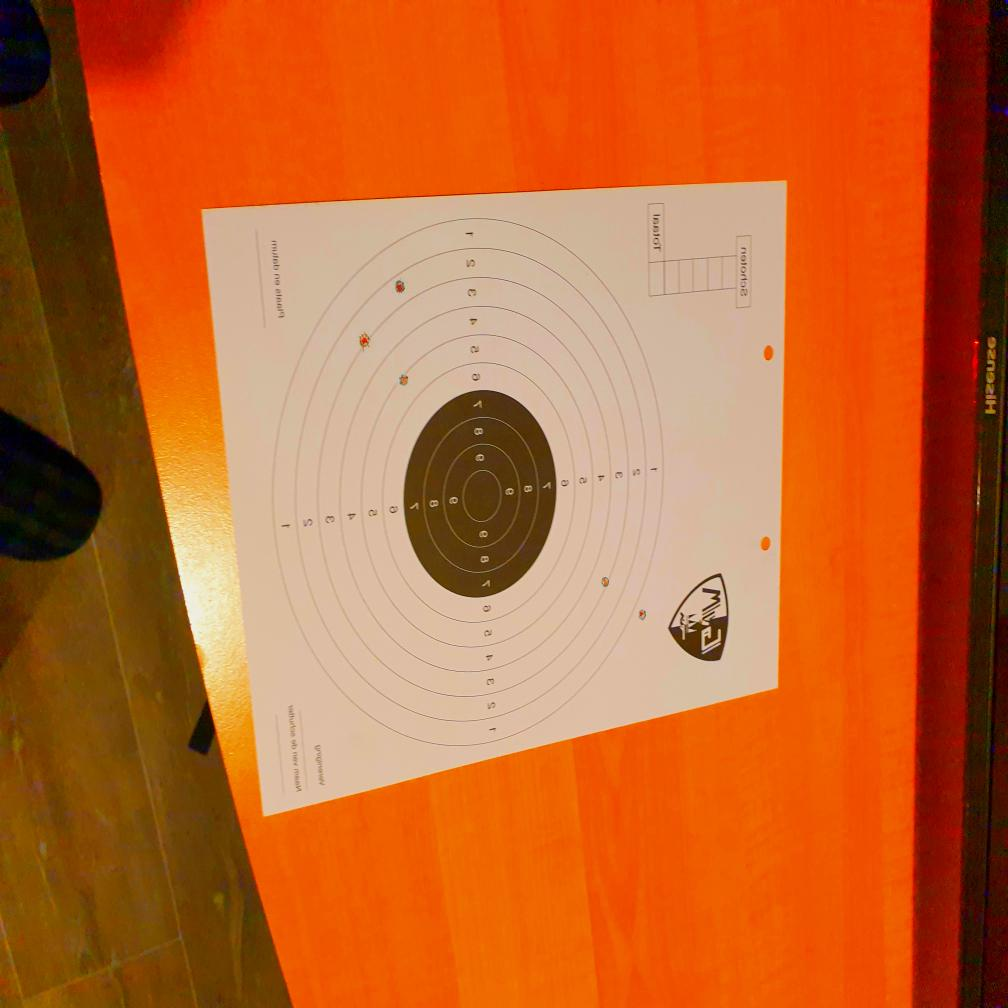0: (638, 608, 647, 622)
2: (394, 276, 407, 294)
3: (358, 331, 371, 353), (600, 576, 610, 588)
5: (397, 370, 410, 388)
Target: (272, 218, 665, 750)
black_contour: (405, 389, 558, 599)
